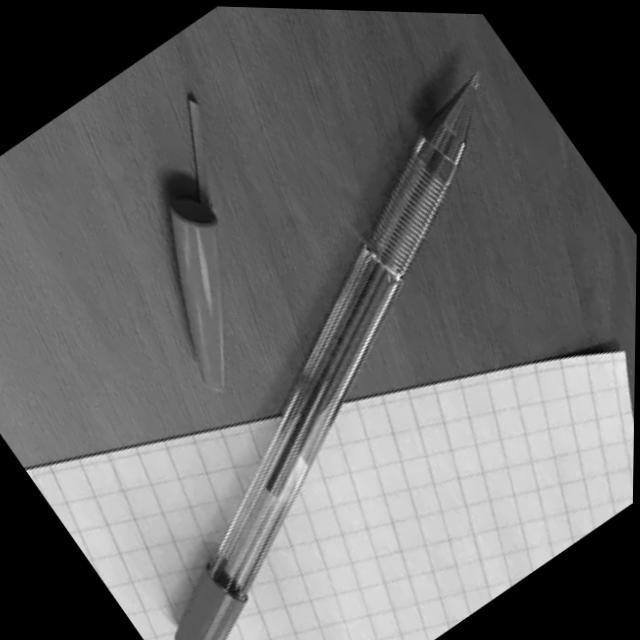pencil: (106, 56, 491, 640)
